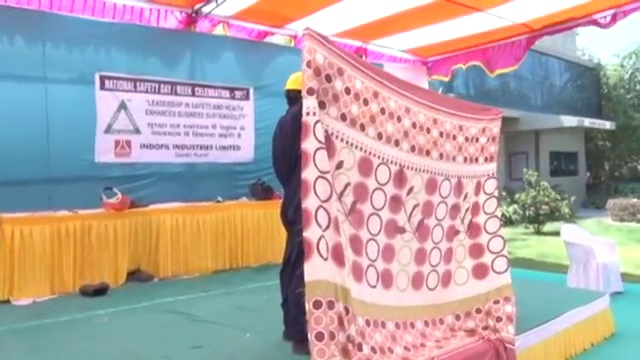helmet: (282, 69, 304, 92)
helmet_on: (281, 68, 305, 111)
person: (268, 69, 312, 356)
